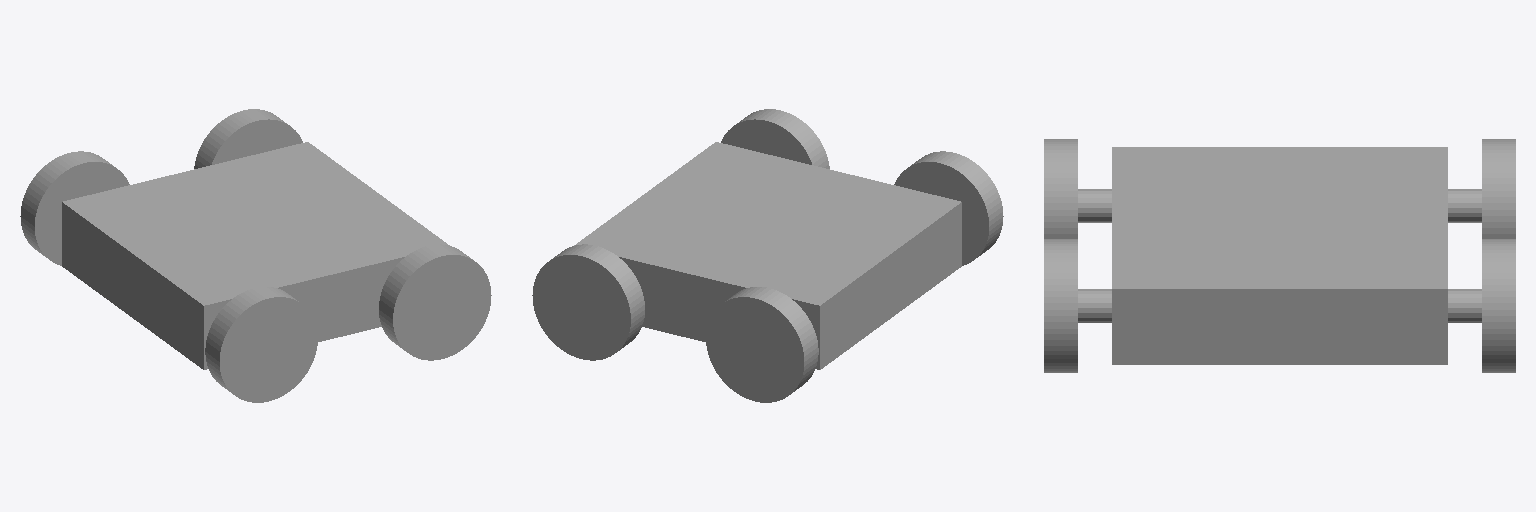
The robot description file, URDF, robot "car_init":
<?xml version="1.0" ?>
<!-- =================================================================================== -->
<!-- |    This document was autogenerated by xacro from urdf/car_init.xacro            | -->
<!-- |    EDITING THIS FILE BY HAND IS NOT RECOMMENDED                                 | -->
<!-- =================================================================================== -->
<robot xmlns:xacro="http://www.ros.org/wiki/xacro" name="car_init">
  <material name="silver">
    <color rgba="0.700 0.700 0.700 1.000"/>
  </material>
  <transmission name="Revolute 1_tran">
    <type>transmission_interface/SimpleTransmission</type>
    <joint name="Revolute 1">
      <hardwareInterface>hardware_interface/EffortJointInterface</hardwareInterface>
    </joint>
    <actuator name="Revolute 1_actr">
      <hardwareInterface>hardware_interface/EffortJointInterface</hardwareInterface>
      <mechanicalReduction>1</mechanicalReduction>
    </actuator>
  </transmission>
  <transmission name="Revolute 2_tran">
    <type>transmission_interface/SimpleTransmission</type>
    <joint name="Revolute 2">
      <hardwareInterface>hardware_interface/EffortJointInterface</hardwareInterface>
    </joint>
    <actuator name="Revolute 2_actr">
      <hardwareInterface>hardware_interface/EffortJointInterface</hardwareInterface>
      <mechanicalReduction>1</mechanicalReduction>
    </actuator>
  </transmission>
  <transmission name="Revolute 3_tran">
    <type>transmission_interface/SimpleTransmission</type>
    <joint name="Revolute 3">
      <hardwareInterface>hardware_interface/EffortJointInterface</hardwareInterface>
    </joint>
    <actuator name="Revolute 3_actr">
      <hardwareInterface>hardware_interface/EffortJointInterface</hardwareInterface>
      <mechanicalReduction>1</mechanicalReduction>
    </actuator>
  </transmission>
  <transmission name="Revolute 4_tran">
    <type>transmission_interface/SimpleTransmission</type>
    <joint name="Revolute 4">
      <hardwareInterface>hardware_interface/EffortJointInterface</hardwareInterface>
    </joint>
    <actuator name="Revolute 4_actr">
      <hardwareInterface>hardware_interface/EffortJointInterface</hardwareInterface>
      <mechanicalReduction>1</mechanicalReduction>
    </actuator>
  </transmission>
  <gazebo>
    <plugin name="control" filename="libgazebo_ros_control.so"/>
  </gazebo>
  <gazebo reference="base_link">
    <material>Gazebo/Silver</material>
    <mu1>0.2</mu1>
    <mu2>0.2</mu2>
    <selfCollide>true</selfCollide>
    <gravity>true</gravity>
  </gazebo>
  <gazebo reference="back_left_1">
    <material>Gazebo/Silver</material>
    <mu1>0.2</mu1>
    <mu2>0.2</mu2>
    <selfCollide>true</selfCollide>
  </gazebo>
  <gazebo reference="front_left_1">
    <material>Gazebo/Silver</material>
    <mu1>0.2</mu1>
    <mu2>0.2</mu2>
    <selfCollide>true</selfCollide>
  </gazebo>
  <gazebo reference="back_right_1">
    <material>Gazebo/Silver</material>
    <mu1>0.2</mu1>
    <mu2>0.2</mu2>
    <selfCollide>true</selfCollide>
  </gazebo>
  <gazebo reference="front_right_1">
    <material>Gazebo/Silver</material>
    <mu1>0.2</mu1>
    <mu2>0.2</mu2>
    <selfCollide>true</selfCollide>
  </gazebo>
  <link name="base_link">
    <inertial>
      <origin xyz="3.2004209190434824e-07 0.0 0.025000000000000005" rpy="0 0 0"/>
      <mass value="15.897292018645437"/>
      <inertia ixx="0.058003" iyy="0.056592" izz="0.108043" ixy="-0.0" iyz="0.0" ixz="0.0"/>
    </inertial>
    <visual>
      <origin xyz="0 0 0" rpy="0 0 0"/>
      <geometry>
        <mesh filename="package://car_init_description/meshes/base_link.stl" scale="0.001 0.001 0.001"/>
      </geometry>
      <material name="silver"/>
    </visual>
    <collision>
      <origin xyz="0 0 0" rpy="0 0 0"/>
      <geometry>
        <mesh filename="package://car_init_description/meshes/base_link.stl" scale="0.001 0.001 0.001"/>
      </geometry>
    </collision>
  </link>
  <link name="back_left_1">
    <inertial>
      <origin xyz="-3.505043161822208e-07 -0.010000000000000009 -6.938893903907228e-18" rpy="0 0 0"/>
      <mass value="0.09349379737083224"/>
      <inertia ixx="4.1e-05" iyy="7.5e-05" izz="4.1e-05" ixy="-0.0" iyz="-0.0" ixz="-0.0"/>
    </inertial>
    <visual>
      <origin xyz="-0.070432 0.12 -0.025" rpy="0 0 0"/>
      <geometry>
        <mesh filename="package://car_init_description/meshes/back_left_1.stl" scale="0.001 0.001 0.001"/>
      </geometry>
      <material name="silver"/>
    </visual>
    <collision>
      <origin xyz="-0.070432 0.12 -0.025" rpy="0 0 0"/>
      <geometry>
        <mesh filename="package://car_init_description/meshes/back_left_1.stl" scale="0.001 0.001 0.001"/>
      </geometry>
    </collision>
  </link>
  <link name="front_left_1">
    <inertial>
      <origin xyz="-7.313057835689474e-08 -0.010000000000000009 -6.938893903907228e-18" rpy="0 0 0"/>
      <mass value="0.09349379737083224"/>
      <inertia ixx="4.1e-05" iyy="7.5e-05" izz="4.1e-05" ixy="-0.0" iyz="-0.0" ixz="-0.0"/>
    </inertial>
    <visual>
      <origin xyz="0.07038 0.12 -0.025" rpy="0 0 0"/>
      <geometry>
        <mesh filename="package://car_init_description/meshes/front_left_1.stl" scale="0.001 0.001 0.001"/>
      </geometry>
      <material name="silver"/>
    </visual>
    <collision>
      <origin xyz="0.07038 0.12 -0.025" rpy="0 0 0"/>
      <geometry>
        <mesh filename="package://car_init_description/meshes/front_left_1.stl" scale="0.001 0.001 0.001"/>
      </geometry>
    </collision>
  </link>
  <link name="back_right_1">
    <inertial>
      <origin xyz="-3.505043161822208e-07 0.010000000000000009 -6.938893903907228e-18" rpy="0 0 0"/>
      <mass value="0.09349379737083224"/>
      <inertia ixx="4.1e-05" iyy="7.5e-05" izz="4.1e-05" ixy="-0.0" iyz="0.0" ixz="-0.0"/>
    </inertial>
    <visual>
      <origin xyz="-0.070432 -0.12 -0.025" rpy="0 0 0"/>
      <geometry>
        <mesh filename="package://car_init_description/meshes/back_right_1.stl" scale="0.001 0.001 0.001"/>
      </geometry>
      <material name="silver"/>
    </visual>
    <collision>
      <origin xyz="-0.070432 -0.12 -0.025" rpy="0 0 0"/>
      <geometry>
        <mesh filename="package://car_init_description/meshes/back_right_1.stl" scale="0.001 0.001 0.001"/>
      </geometry>
    </collision>
  </link>
  <link name="front_right_1">
    <inertial>
      <origin xyz="-7.313057835689474e-08 0.010000000000000009 -6.938893903907228e-18" rpy="0 0 0"/>
      <mass value="0.09349379737083224"/>
      <inertia ixx="4.1e-05" iyy="7.5e-05" izz="4.1e-05" ixy="0.0" iyz="0.0" ixz="-0.0"/>
    </inertial>
    <visual>
      <origin xyz="0.07038 -0.12 -0.025" rpy="0 0 0"/>
      <geometry>
        <mesh filename="package://car_init_description/meshes/front_right_1.stl" scale="0.001 0.001 0.001"/>
      </geometry>
      <material name="silver"/>
    </visual>
    <collision>
      <origin xyz="0.07038 -0.12 -0.025" rpy="0 0 0"/>
      <geometry>
        <mesh filename="package://car_init_description/meshes/front_right_1.stl" scale="0.001 0.001 0.001"/>
      </geometry>
    </collision>
  </link>
  <joint name="Revolute 1" type="continuous">
    <origin xyz="0.070432 -0.12 0.025" rpy="0 0 0"/>
    <parent link="base_link"/>
    <child link="back_left_1"/>
    <axis xyz="0.0 -1.0 0.0"/>
  </joint>
  <joint name="Revolute 2" type="continuous">
    <origin xyz="-0.07038 -0.12 0.025" rpy="0 0 0"/>
    <parent link="base_link"/>
    <child link="front_left_1"/>
    <axis xyz="0.0 -1.0 0.0"/>
  </joint>
  <joint name="Revolute 3" type="continuous">
    <origin xyz="0.070432 0.12 0.025" rpy="0 0 0"/>
    <parent link="base_link"/>
    <child link="back_right_1"/>
    <axis xyz="0.0 -1.0 0.0"/>
  </joint>
  <joint name="Revolute 4" type="continuous">
    <origin xyz="-0.07038 0.12 0.025" rpy="0 0 0"/>
    <parent link="base_link"/>
    <child link="front_right_1"/>
    <axis xyz="0.0 -1.0 0.0"/>
  </joint>
</robot>

--- What the picture shows (computed from the rendered views, not written in the file) ---
3 views of the same robot in one strip: view 1: azimuth 30°, elevation 25°; view 2: azimuth 150°, elevation 25°; view 3: azimuth 270°, elevation 25° (orthographic).
Robot: car_init — 5 links, 4 joints (4 continuous); root link base_link; default pose: every joint at zero.
Links seen in each view (by area): view 1: base_link, back_left_1, front_left_1, front_right_1, back_right_1; view 2: base_link, back_right_1, front_right_1, front_left_1, back_left_1; view 3: base_link, back_left_1, back_right_1, front_left_1, front_right_1.
Boxes of the visible links, x1,y1,x2,y2 form: base_link: (62,142,449,369); back_left_1: (379,244,491,360); front_left_1: (205,287,317,402); front_right_1: (20,151,129,265); back_right_1: (194,109,302,168); base_link: (574,142,961,369); back_right_1: (532,244,644,360); front_right_1: (706,287,818,402); front_left_1: (894,151,1003,265); back_left_1: (721,109,829,168); base_link: (1078,147,1481,364); back_left_1: (1044,239,1077,372); back_right_1: (1482,239,1515,372); front_left_1: (1044,139,1077,238); front_right_1: (1482,139,1515,238).
Bounding box of the posed robot: 0.2208 × 0.28 × 0.0799 m (x, y, z).
5 mesh visuals loaded from 5 distinct referenced files (5 binary STL).